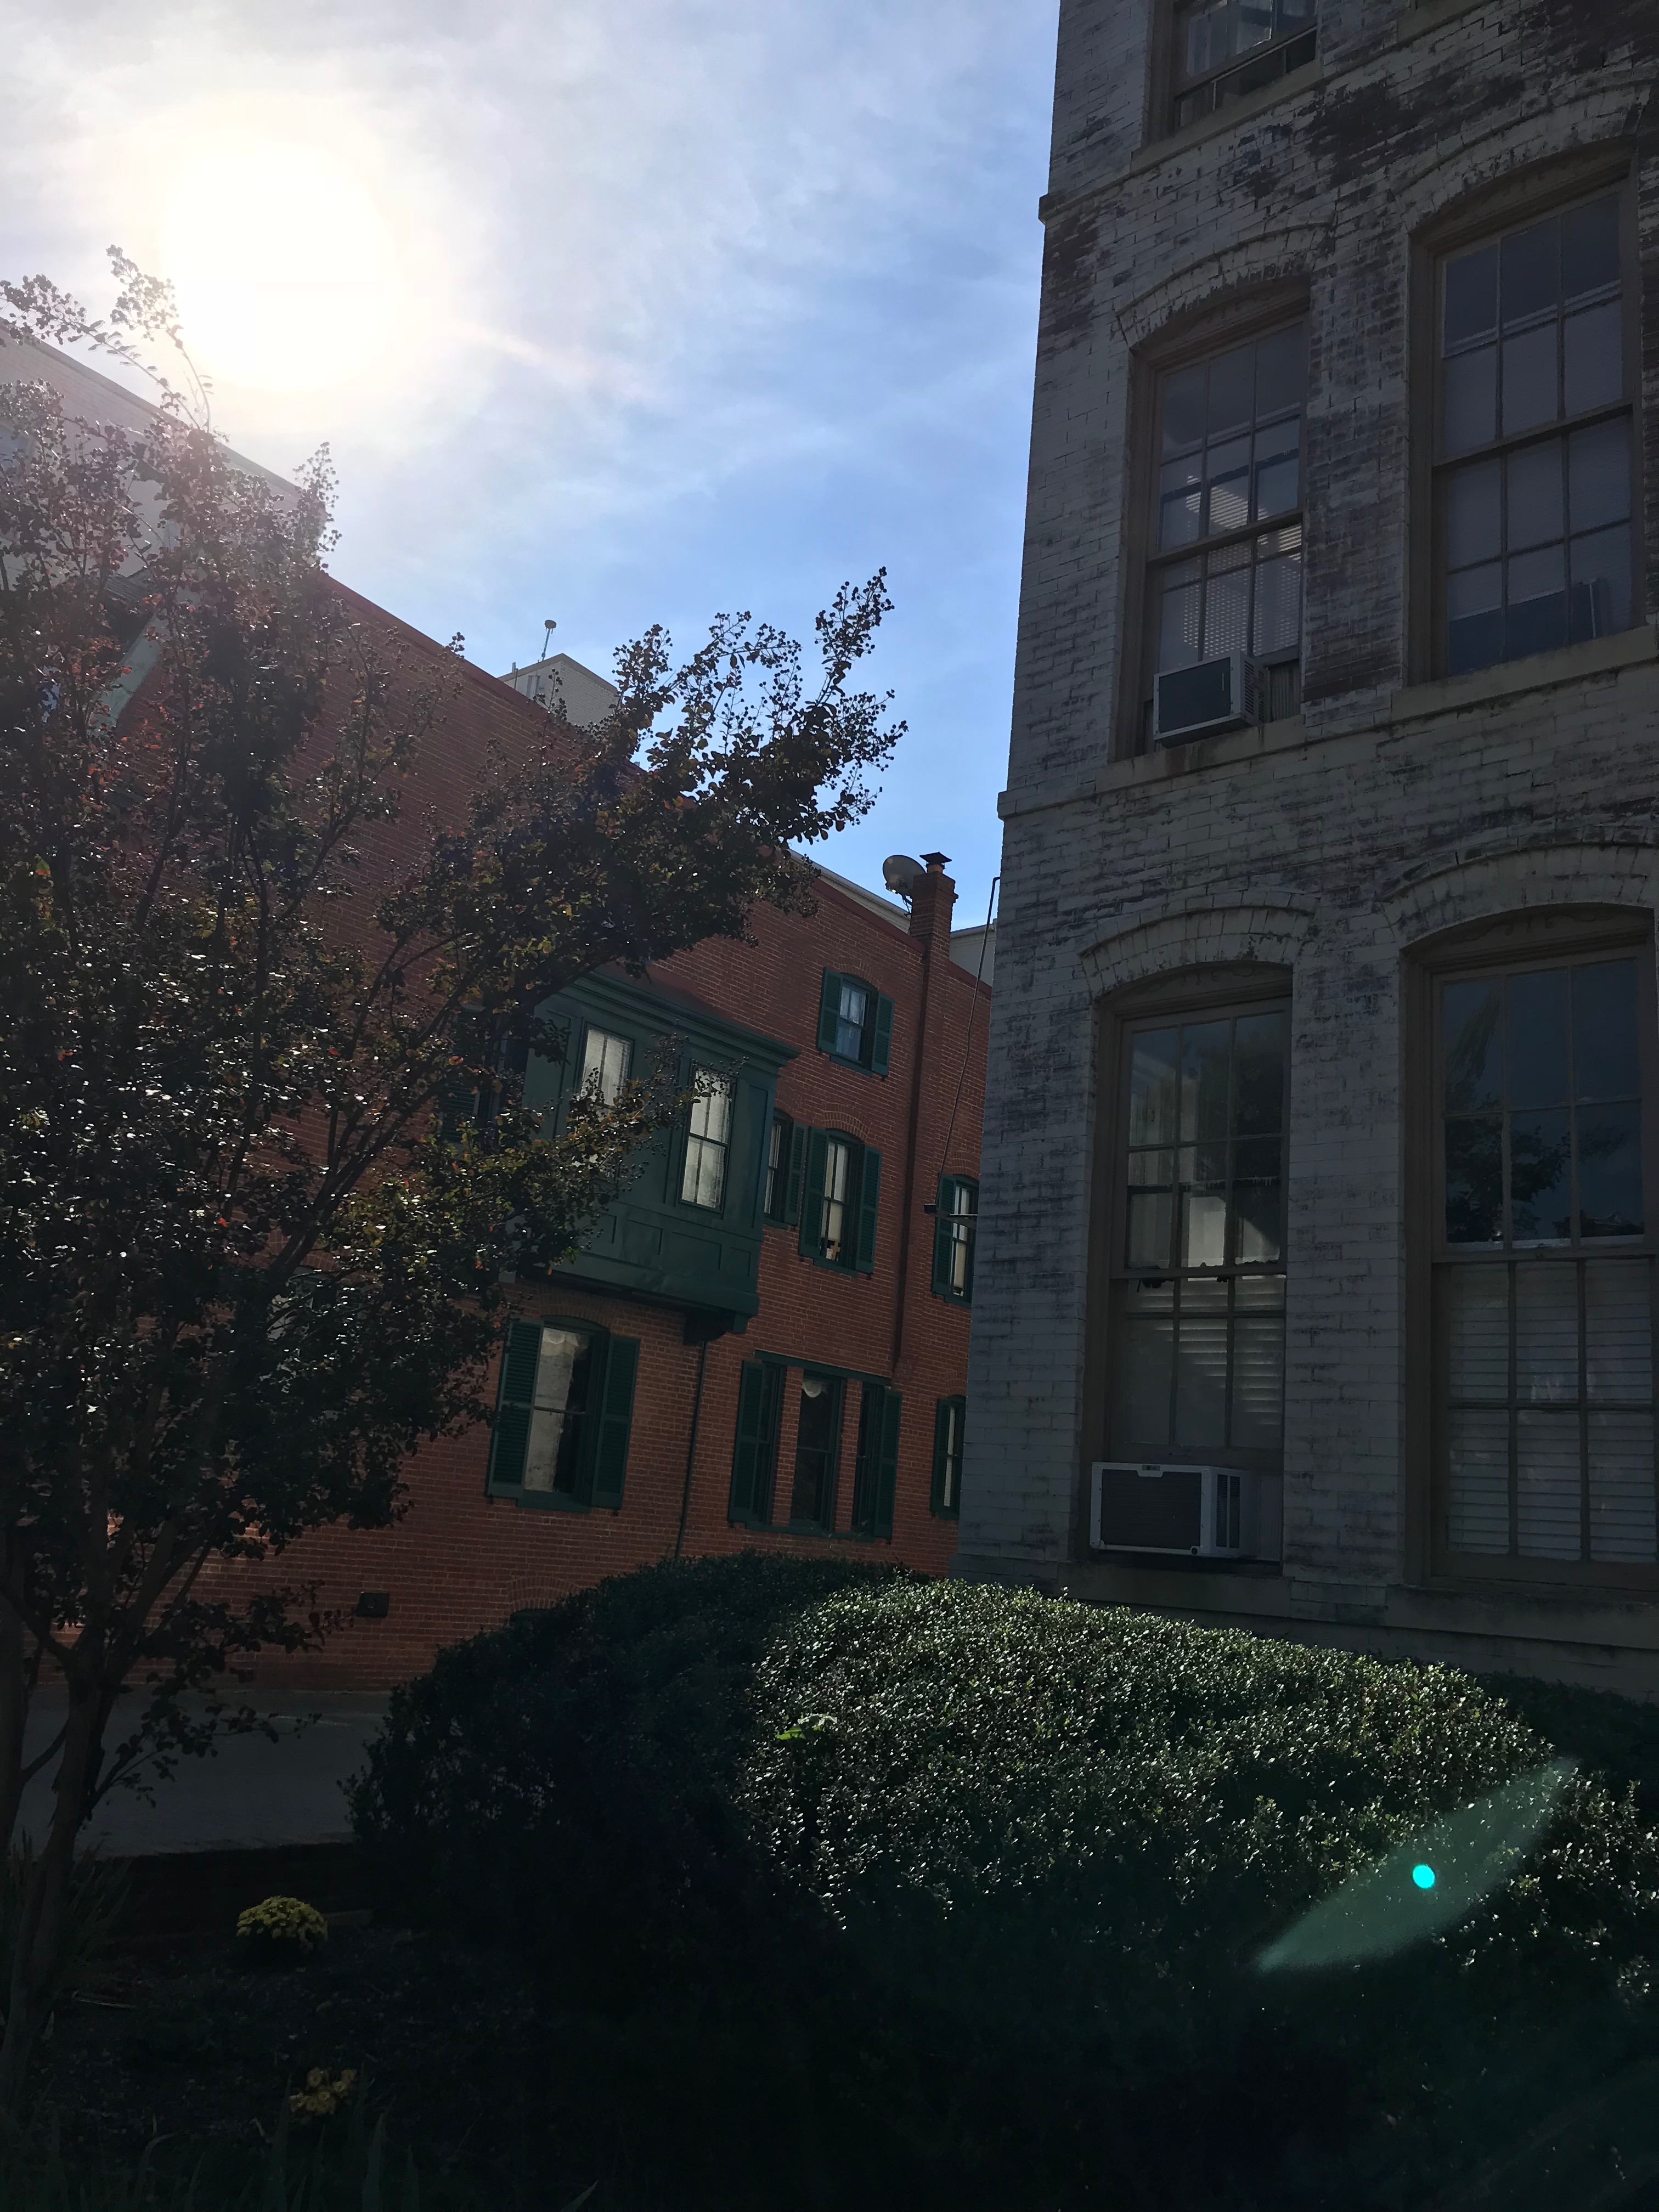flare: (1408, 1862, 1439, 1890)
